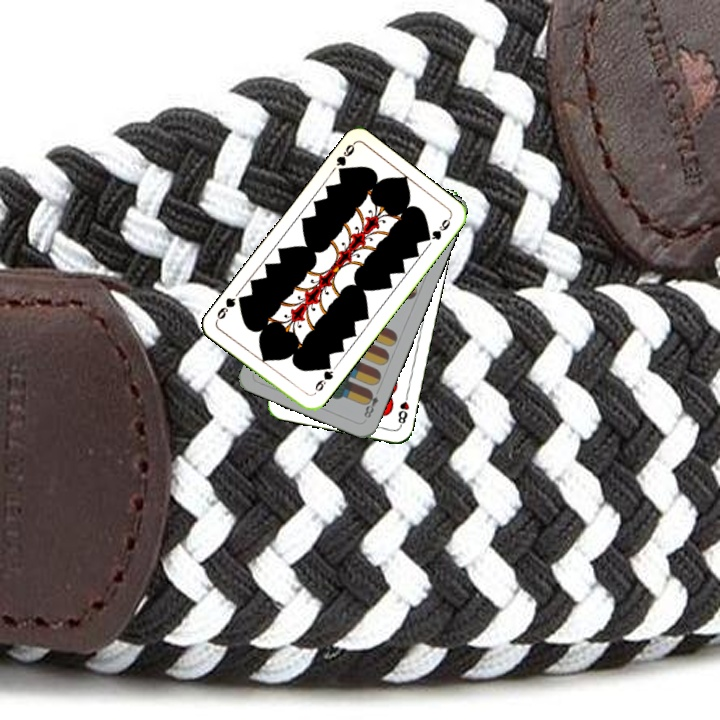E8: (360, 387, 381, 421)
G9: (308, 360, 336, 398), (332, 139, 357, 178)
H8: (394, 389, 412, 429)
